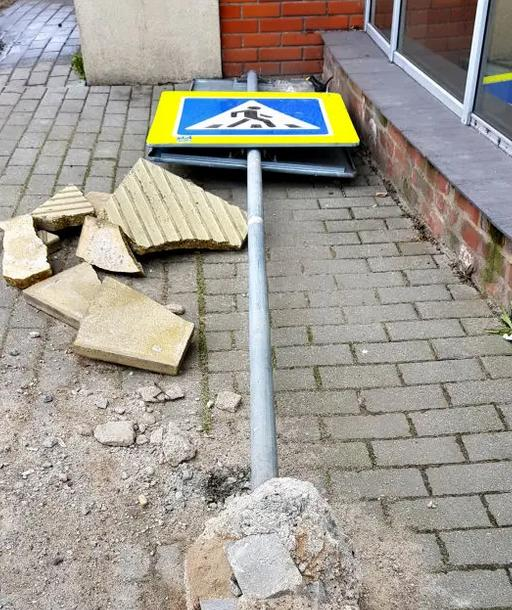road_sign: (145, 91, 360, 144)
